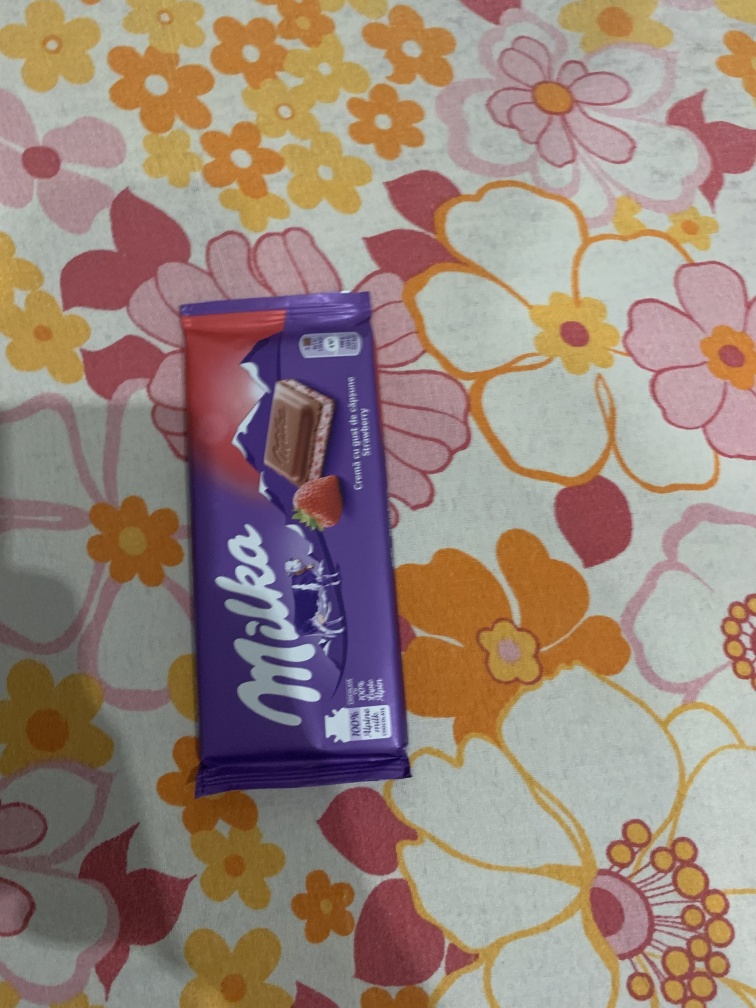milka: (174, 290, 414, 797)
